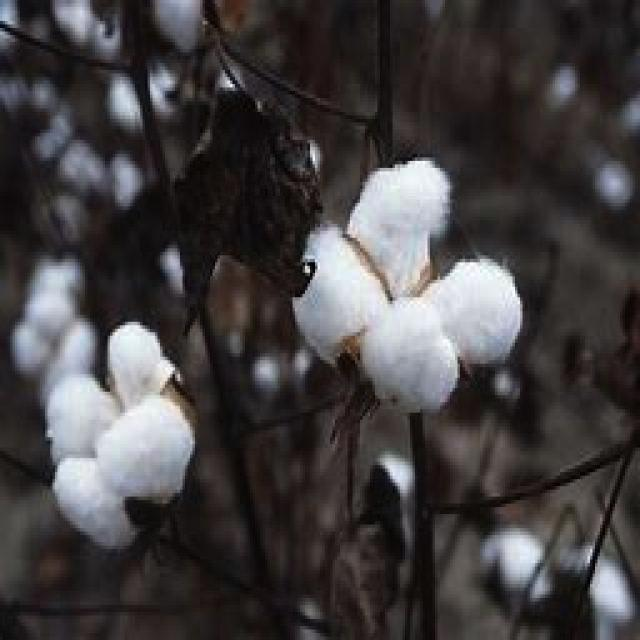Matured Cotton Boll: (280, 142, 529, 421), (38, 317, 202, 552)
